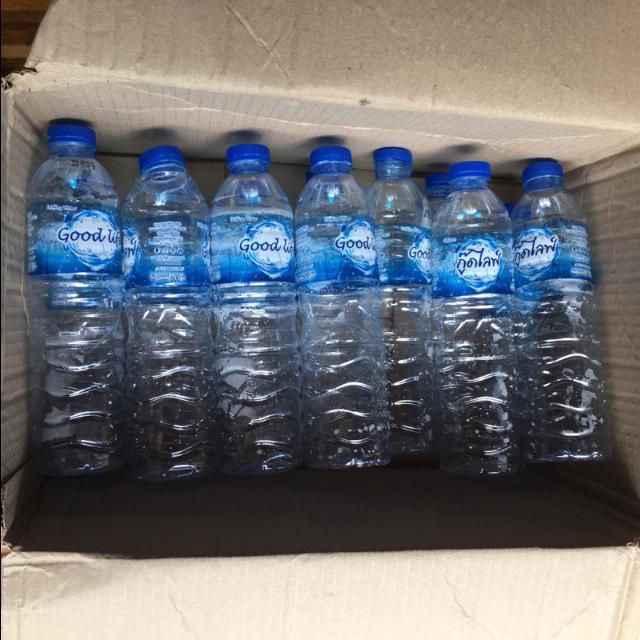PET Bottle: (18, 105, 128, 479), (116, 134, 226, 485), (504, 135, 608, 493), (294, 140, 394, 477), (209, 136, 304, 483), (430, 132, 519, 492), (366, 134, 436, 487)
